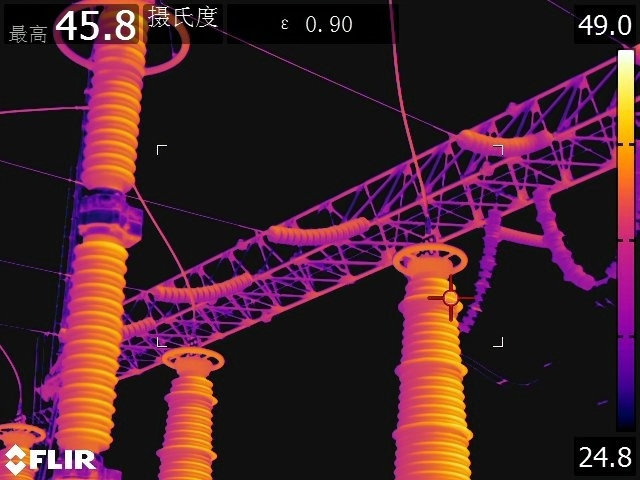insulator: (536, 179, 597, 295), (465, 207, 505, 335), (262, 207, 373, 249), (148, 265, 259, 306), (456, 121, 553, 156), (496, 224, 551, 249), (121, 315, 159, 343)
lightning arrester: (37, 3, 199, 457)
tube: (381, 232, 479, 480), (142, 322, 235, 480), (1, 411, 52, 480)
